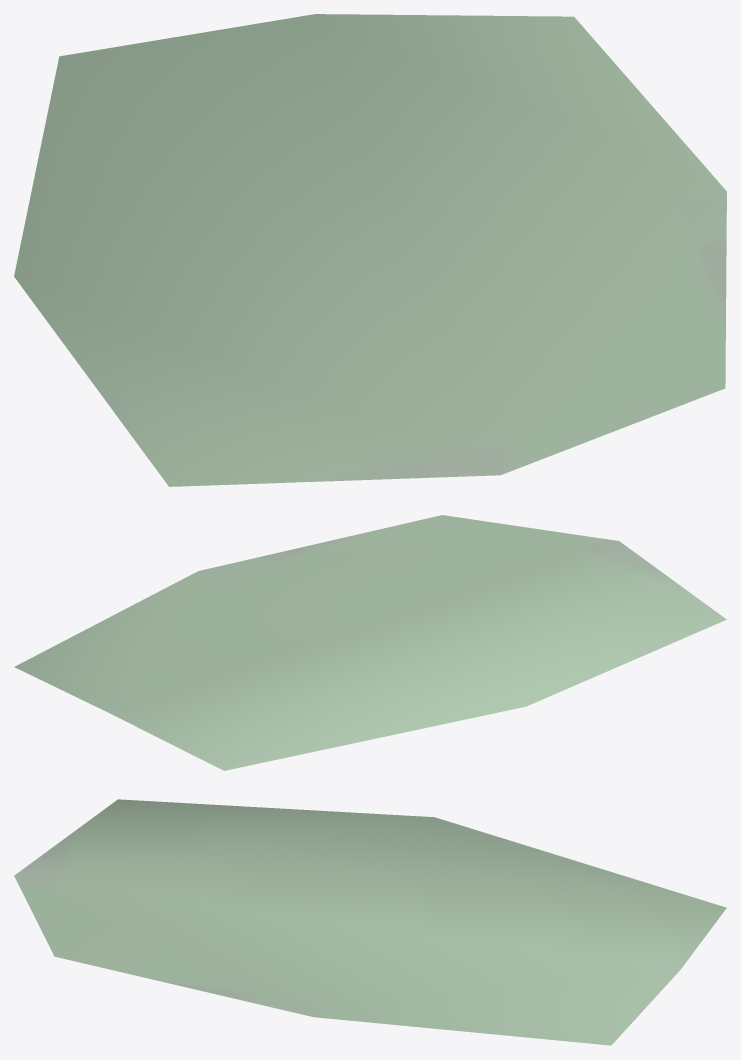
Rendered from TROLLHOLE02_HOLECAP148.fbx.
The picture shows the model from 3 angles, top to bottom: view 1: azimuth 30°, elevation 25°; view 2: azimuth 150°, elevation 25°; view 3: azimuth 270°, elevation 25°; orthographic projection. The views are drawn at different scales.
Parts seen in each view (by area): view 1: TROLLHOLE02_HOLECAP148; view 2: TROLLHOLE02_HOLECAP148; view 3: TROLLHOLE02_HOLECAP148.
Part boxes in pixels (box(x1,y1,x2,y2)): TROLLHOLE02_HOLECAP148: box(14, 14, 726, 486); TROLLHOLE02_HOLECAP148: box(14, 515, 726, 770); TROLLHOLE02_HOLECAP148: box(14, 799, 726, 1045).
Size of the model in its own units: 40220 by 1054 by 48311.
Materials: 1 (1 with a texture image).
